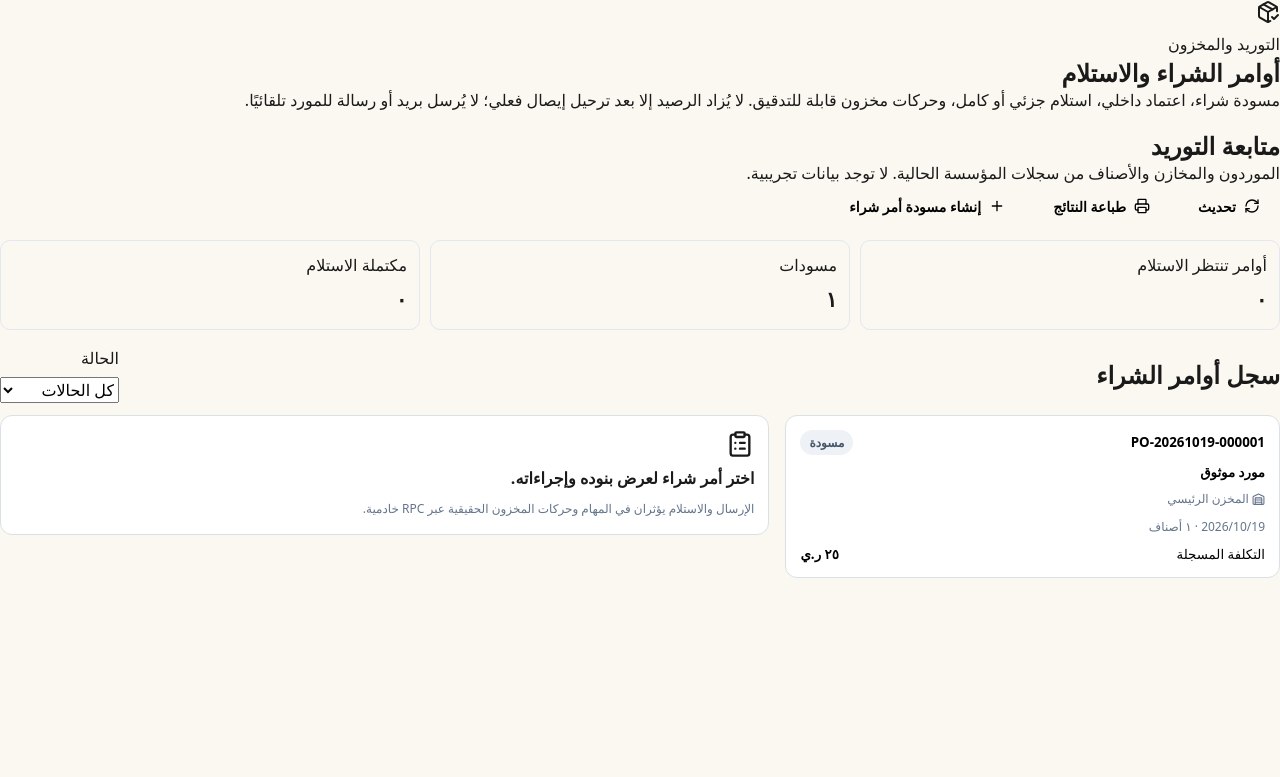
Test: purchase orders page › rejects an unsafe unit cost instead of rounding it silently
expect the text "PO-20261019-000001" is shown: met, box [1131,433,1265,451]
Click the button "إنشاء مسودة أمر شراء": (927, 206) [829,187,1025,226]
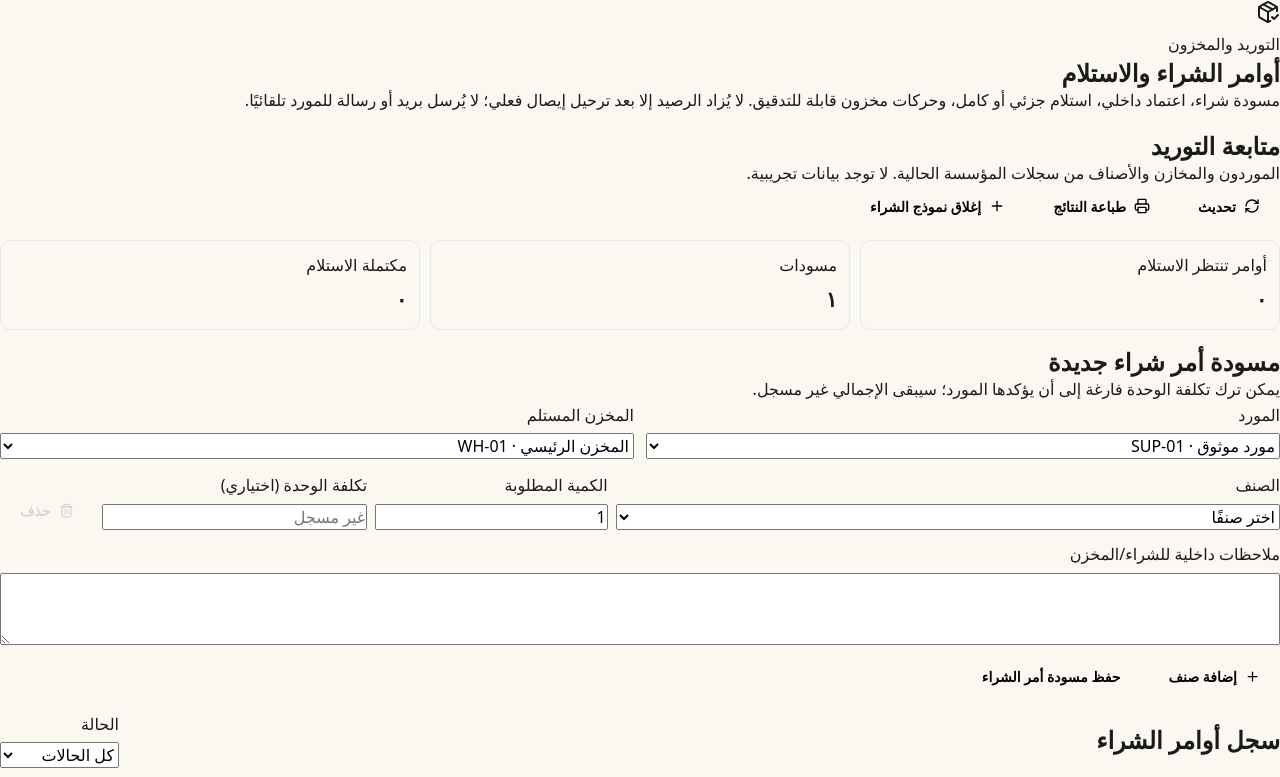
Select "سكر · 0000125" in the dropdown labelled "الصنف": (948, 517) [616,504,1279,530]
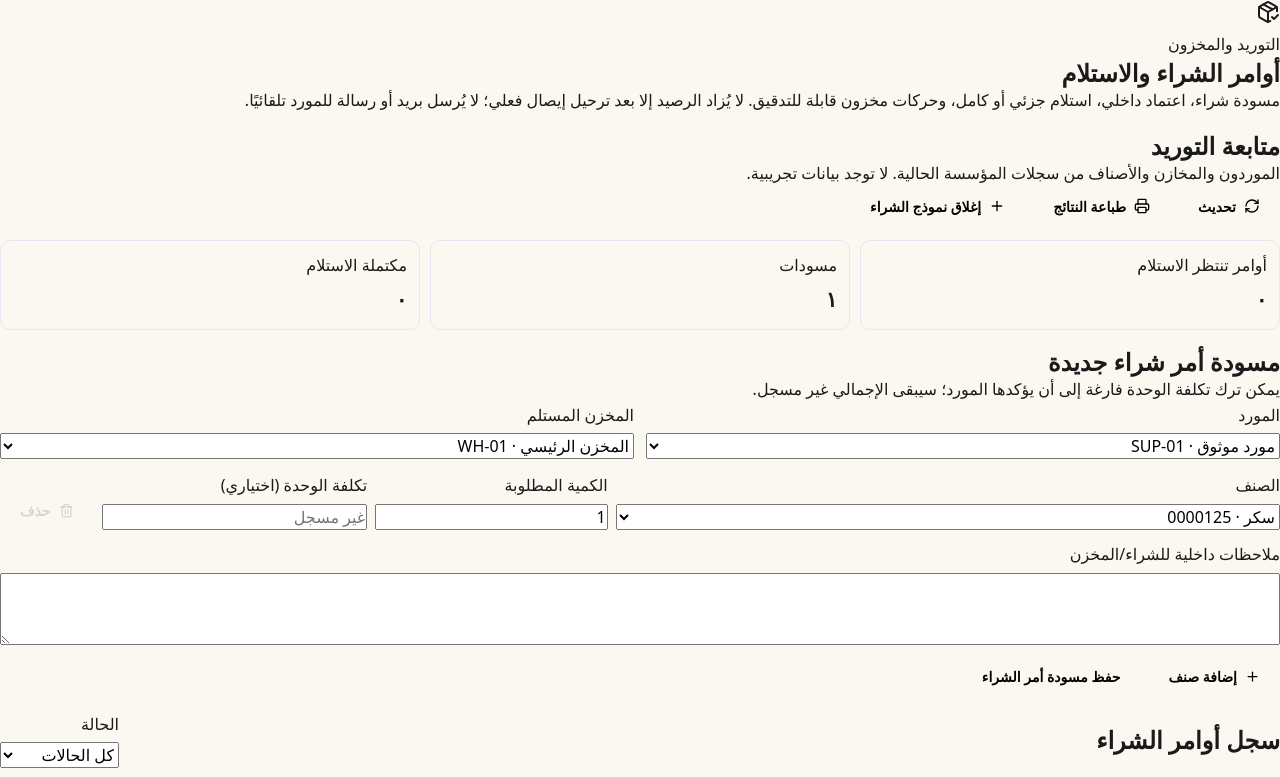
In the number field labelled "تكلفة الوحدة (اختياري)": (234, 517) [102,504,367,530], type "12.345"
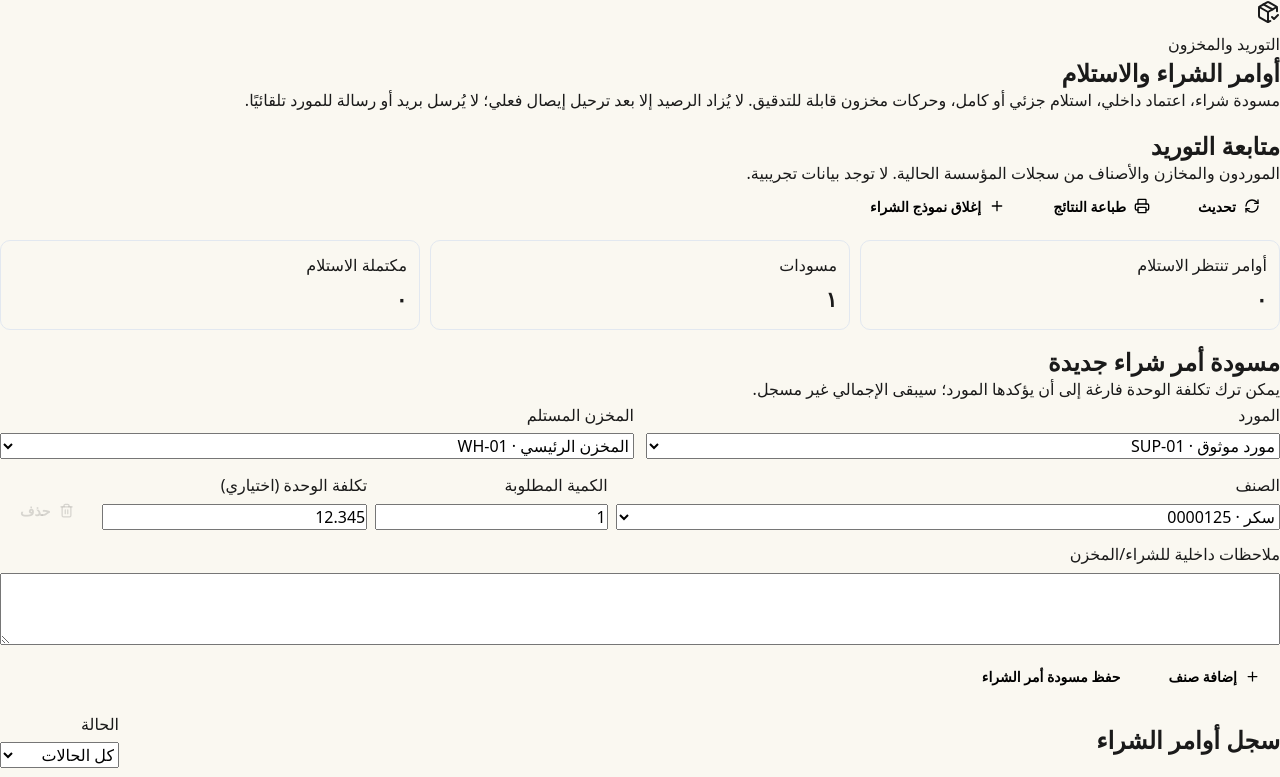
Click the button "حفظ مسودة أمر الشراء": (1051, 676) [962,656,1140,696]
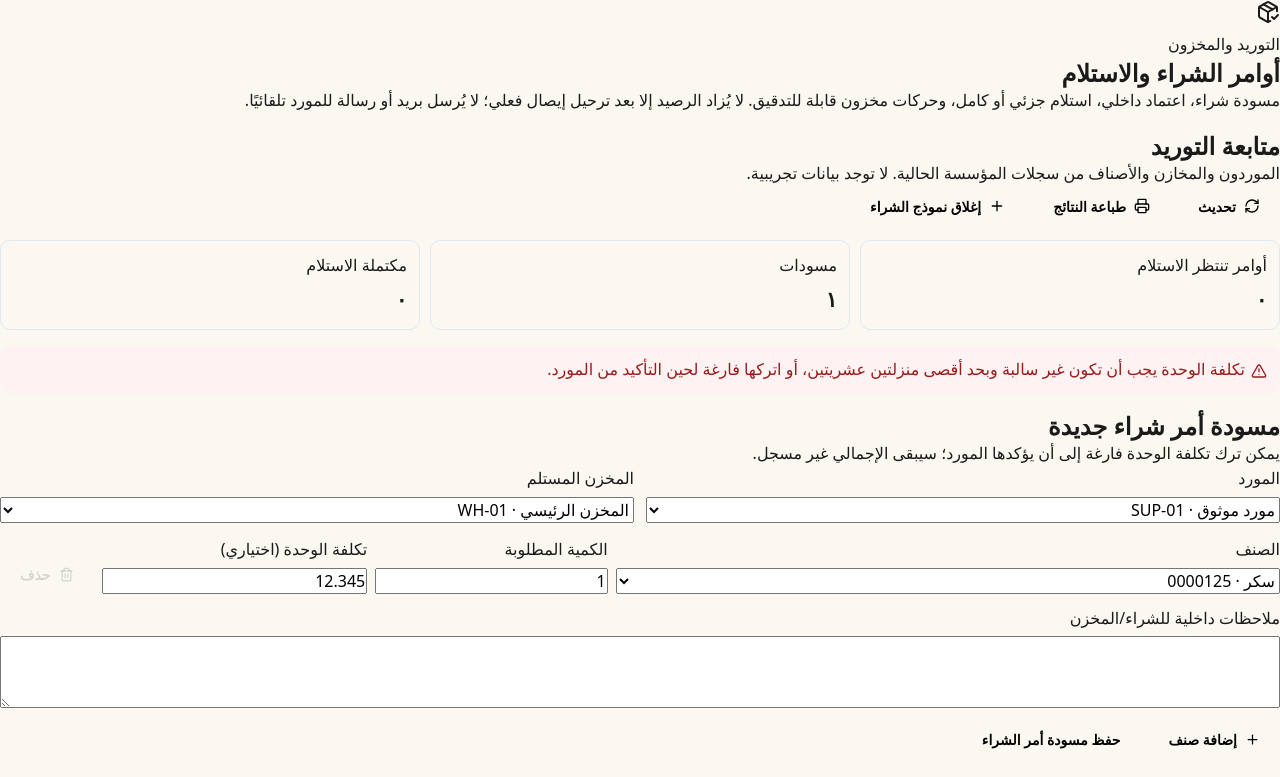
expect the message shows "تكلفة الوحدة يجب أن تكون غير سالبة": met, box [547,358,1245,380]
